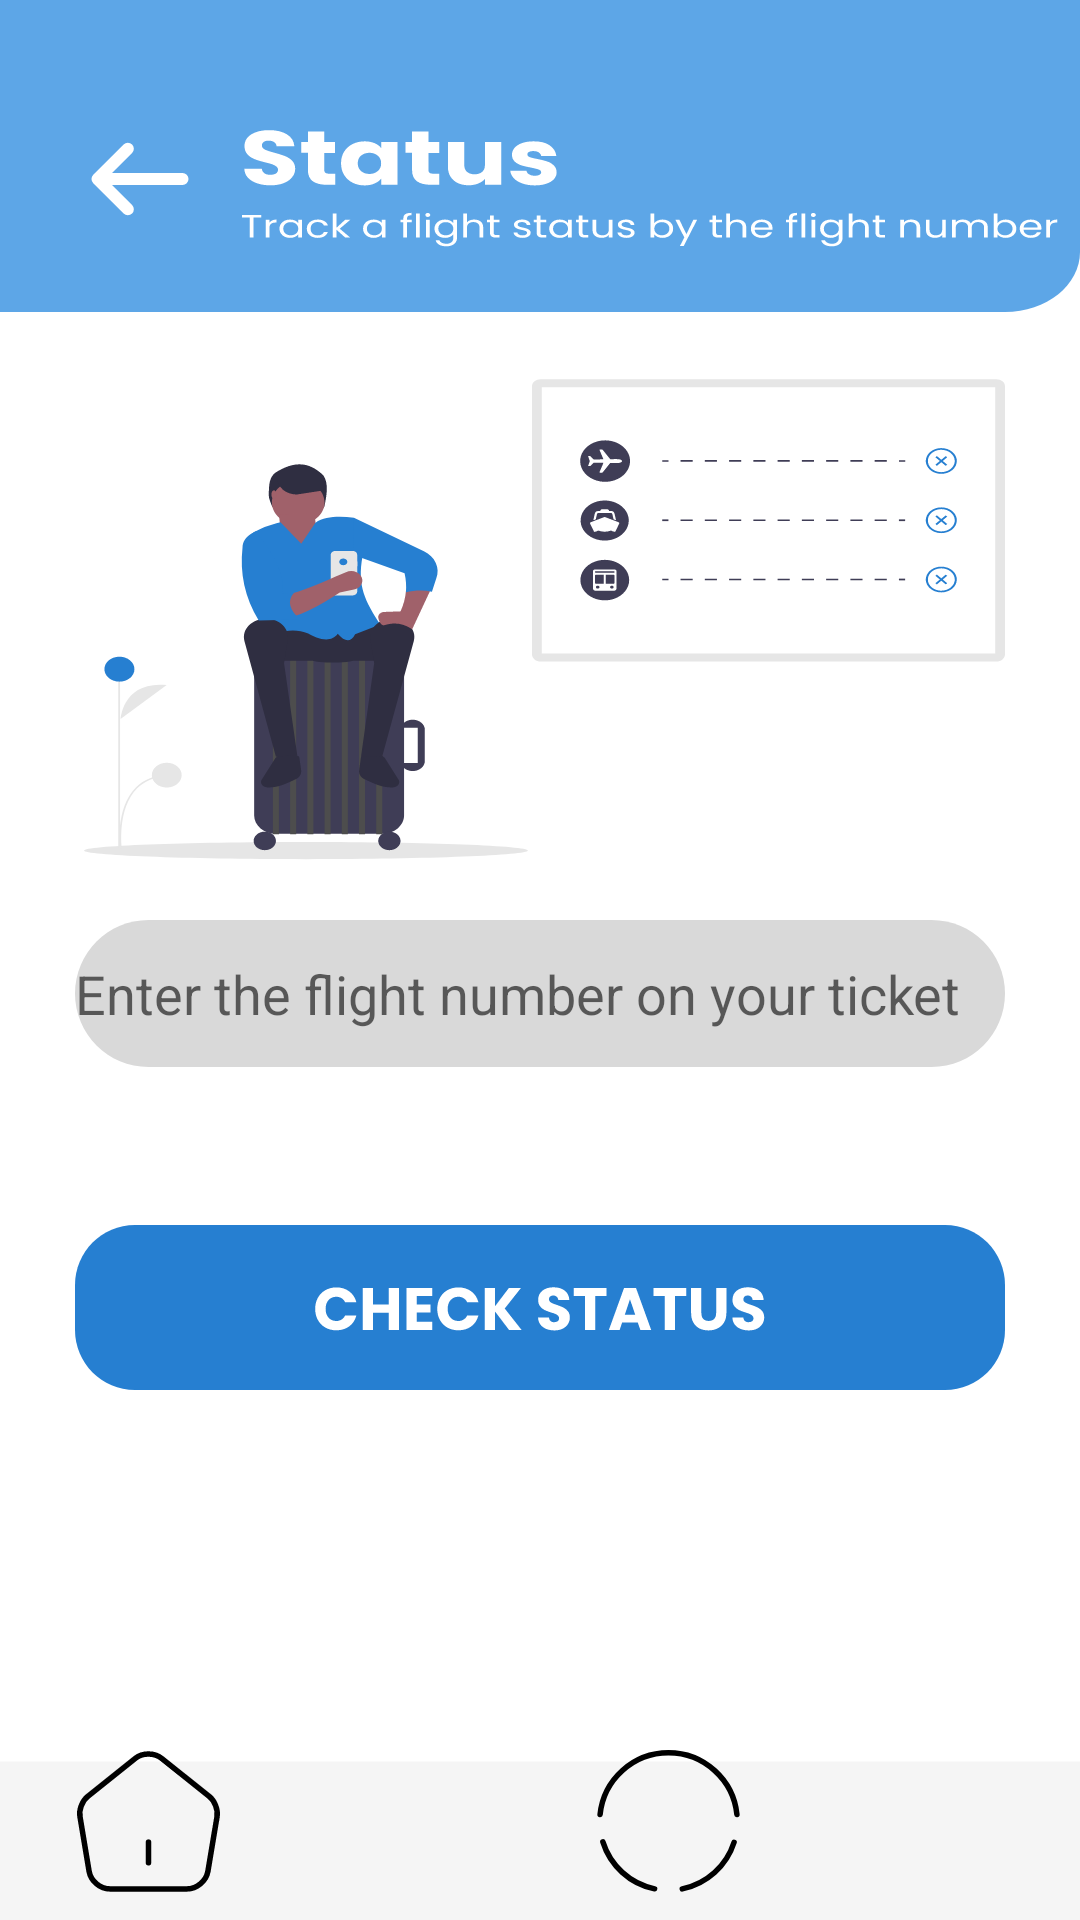

Named icons in this screenshot (1080px×1920px) and their centers, (x,y):
home onclick: (148,1821)
